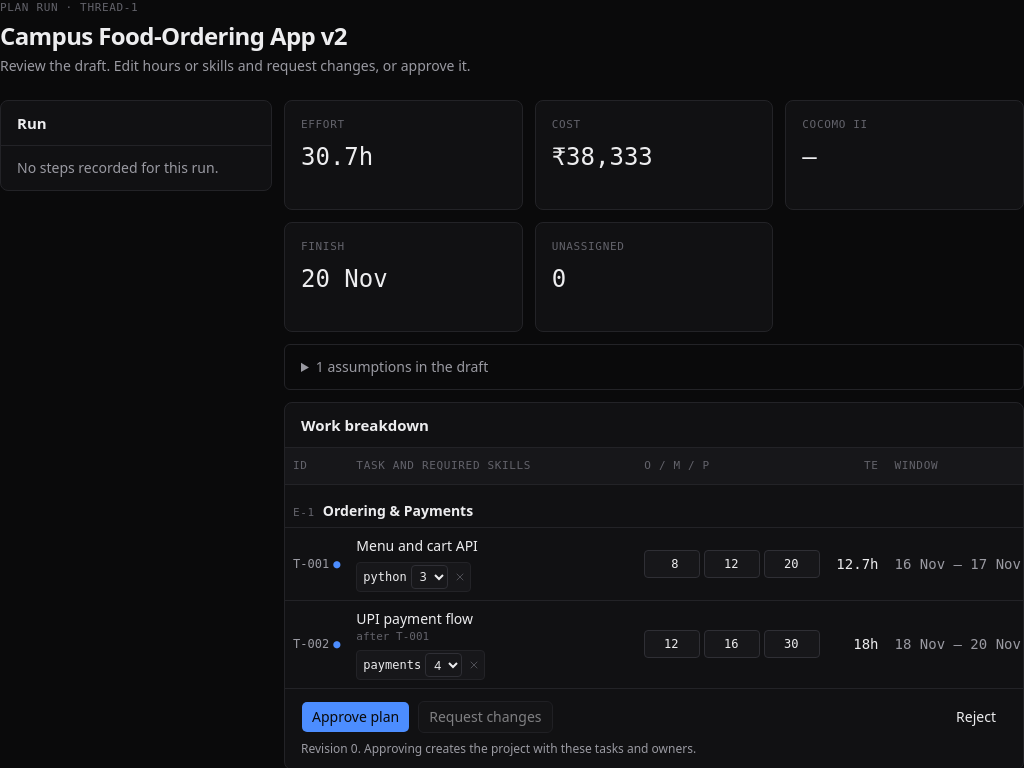
Test: PlanRunPage › needs a reason to reject
Later steps or results of the test are not shown.
Click the button "Reject" at [976, 717], box [945, 701, 1007, 733]
(page scrolled)
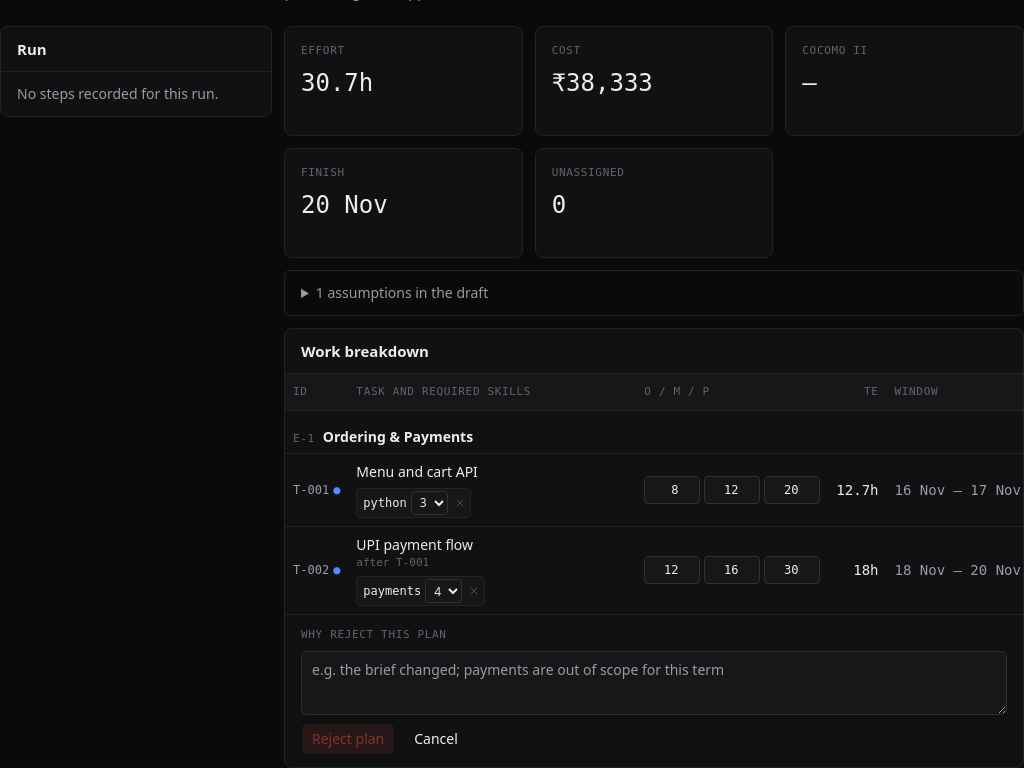
Now the button "Reject plan" is disabled, box [301, 723, 395, 755]
